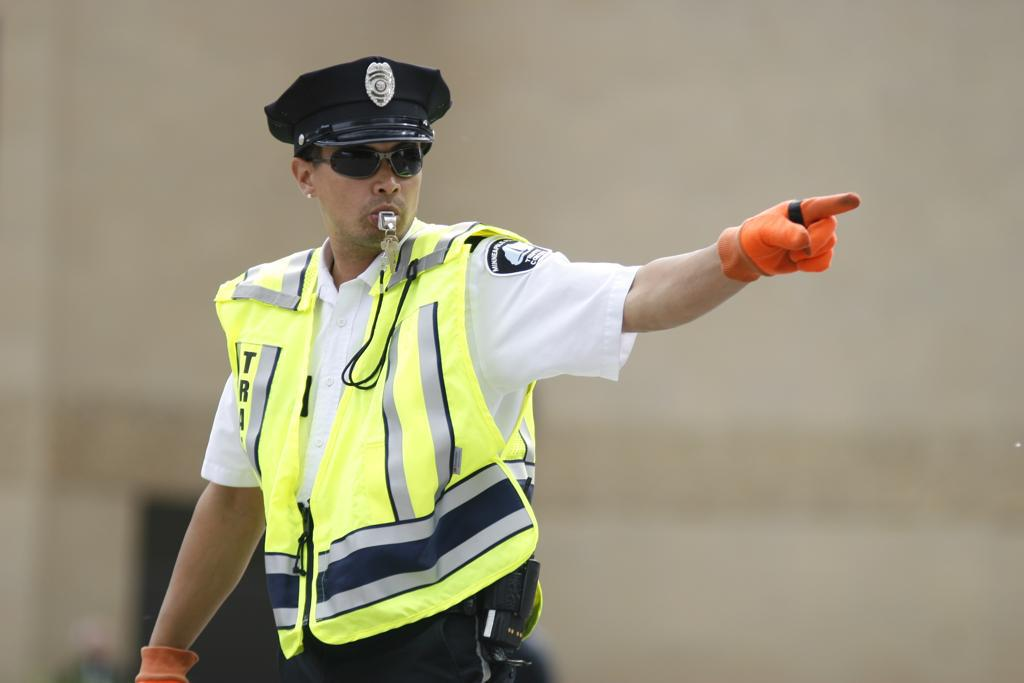face: (319, 121, 423, 241)
